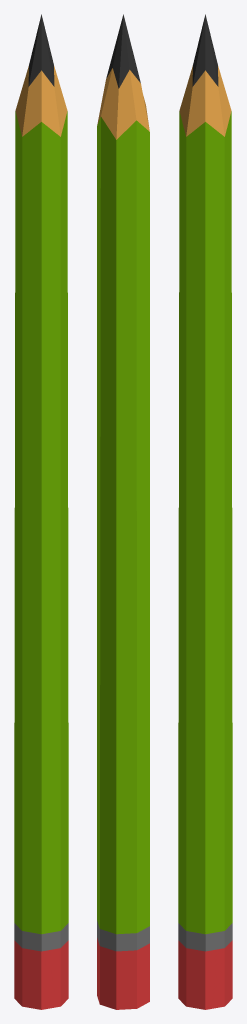
Rendered from Pencil_2.fbx.
3 views of the same model, side by side, from view 1: azimuth 90°, elevation 25°; view 2: azimuth 210°, elevation 25°; view 3: azimuth 270°, elevation 25° (orthographic).
Visible parts, largest first — view 1: Pencil_2; view 2: Pencil_2; view 3: Pencil_2.
Boxes of the visible parts, box(x1,y1,x2,y2) form: Pencil_2: box(14, 14, 68, 1009); Pencil_2: box(97, 14, 149, 1009); Pencil_2: box(178, 14, 232, 1009).
Bounding box in the file's own units: 0.7565 × 15.04 × 0.7565.
